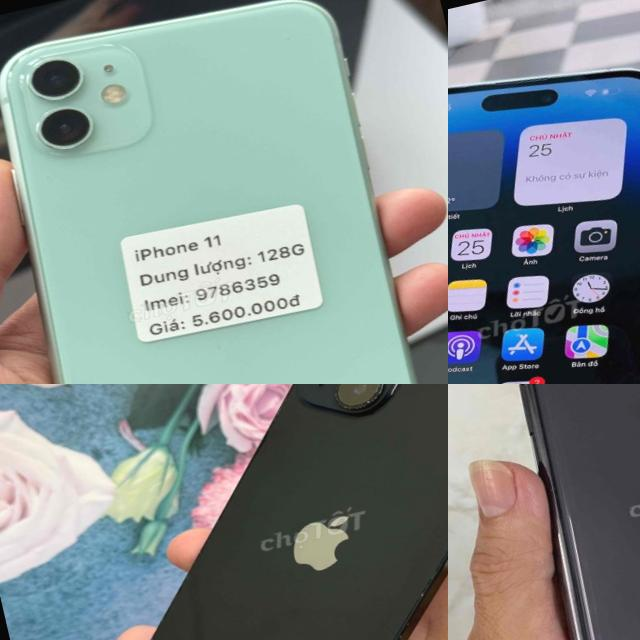gen_11: (0, 0, 448, 384)
gen_14: (49, 384, 448, 640)
gen_15: (448, 36, 640, 384)
gen_x_xs: (465, 384, 640, 640)
